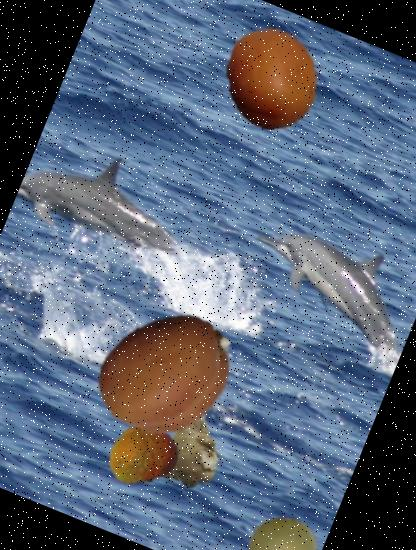Apricot: (76, 286, 254, 462), (204, 13, 338, 146)
Ginger: (135, 402, 234, 500)
Grape: (235, 507, 327, 550)
Mandarine: (96, 408, 188, 500)
